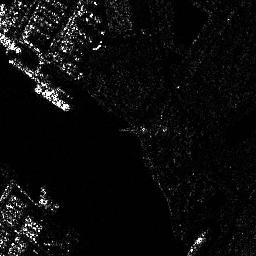ship: (32, 84, 72, 111), (184, 231, 209, 256)
